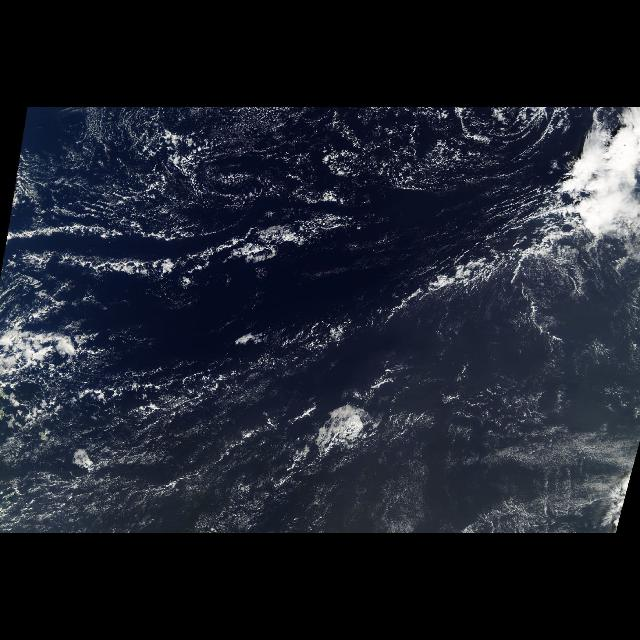Sugar: (386, 285, 634, 531), (8, 110, 530, 220), (7, 426, 353, 534)
